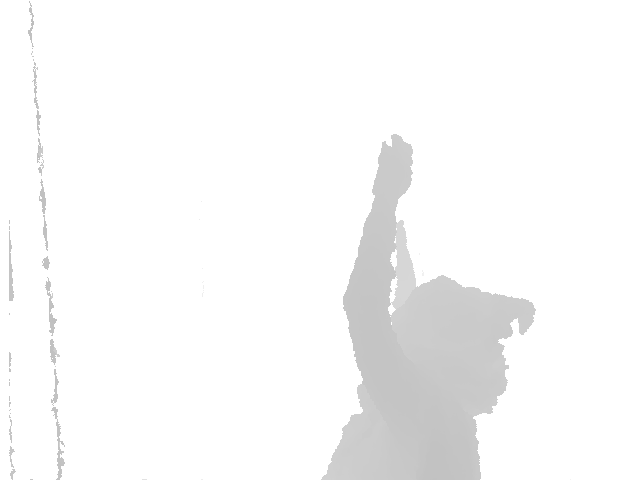hand: (372, 134, 417, 200)
head: (388, 273, 536, 421)
person: (327, 133, 535, 480)
